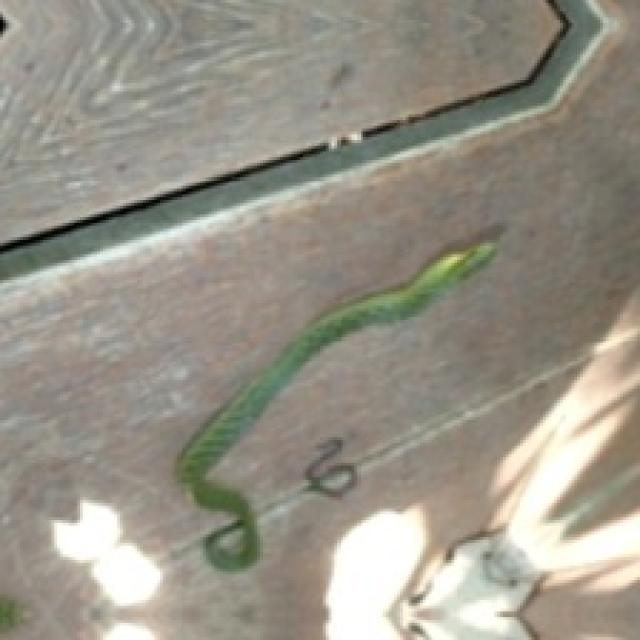red-tailed green ratsnake: (177, 240, 494, 569)
